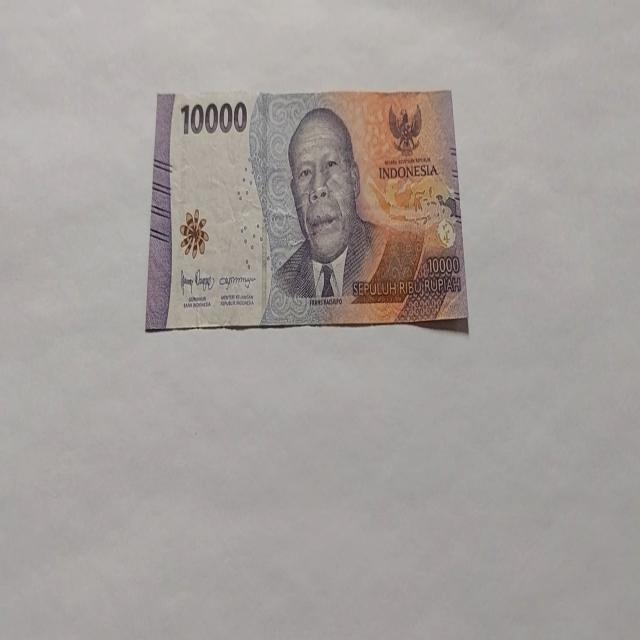sepuluh ribu rupiah: (144, 87, 470, 333)
